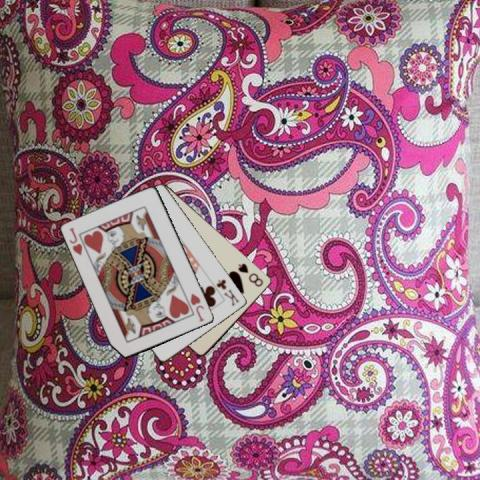8s: (235, 261, 265, 288)
Jh: (187, 290, 206, 323), (67, 225, 84, 256)
Kc: (213, 276, 241, 307)
